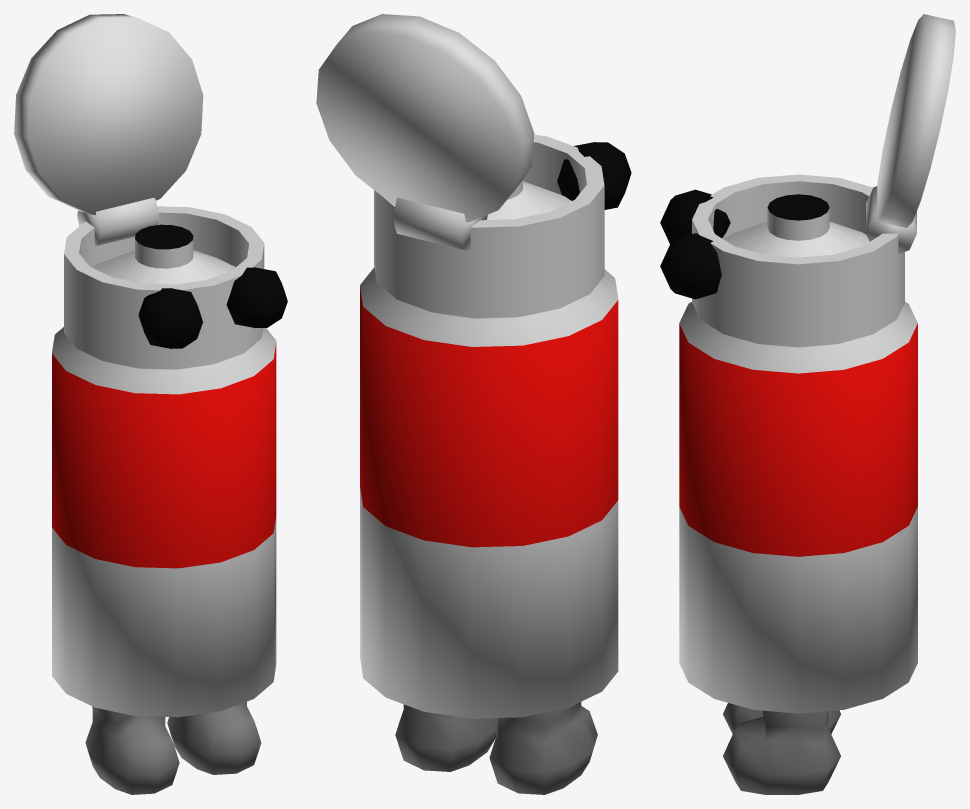
File: BottleBoi.fbx
3 views of the same model, side by side, from view 1: azimuth 30°, elevation 25°; view 2: azimuth 150°, elevation 25°; view 3: azimuth 270°, elevation 25° (orthographic). The views are drawn at different scales.
Visible parts, largest first — view 1: Cylinder, Cap, Foot.R, Foot.L, Eye.R, Eye.L, Hinge; view 2: Cylinder, Cap, Foot.R, Foot.L, Hinge, Eye.R; view 3: Cylinder, Cap, Foot.L, Eye.L, Eye.R, Hinge, Foot.R.
Part boxes in pixels (<box>): Cylinder: <box>52,206,276,717</box>; Cap: <box>14,14,203,214</box>; Foot.R: <box>85,706,179,794</box>; Foot.L: <box>167,701,261,774</box>; Eye.R: <box>138,288,202,348</box>; Eye.L: <box>226,267,287,328</box>; Hinge: <box>77,197,159,245</box>; Cylinder: <box>360,134,618,718</box>; Cap: <box>316,14,534,222</box>; Foot.R: <box>489,702,597,794</box>; Foot.L: <box>395,704,497,771</box>; Hinge: <box>393,197,487,250</box>; Eye.R: <box>557,142,631,209</box>; Cylinder: <box>679,174,917,713</box>; Cap: <box>876,14,955,227</box>; Foot.L: <box>723,710,840,794</box>; Eye.L: <box>660,233,721,299</box>; Eye.R: <box>660,189,730,243</box>; Hinge: <box>866,186,916,253</box>; Foot.R: <box>723,703,840,733</box>.
Bounding box in the file's own units: 200 × 685 × 248.
